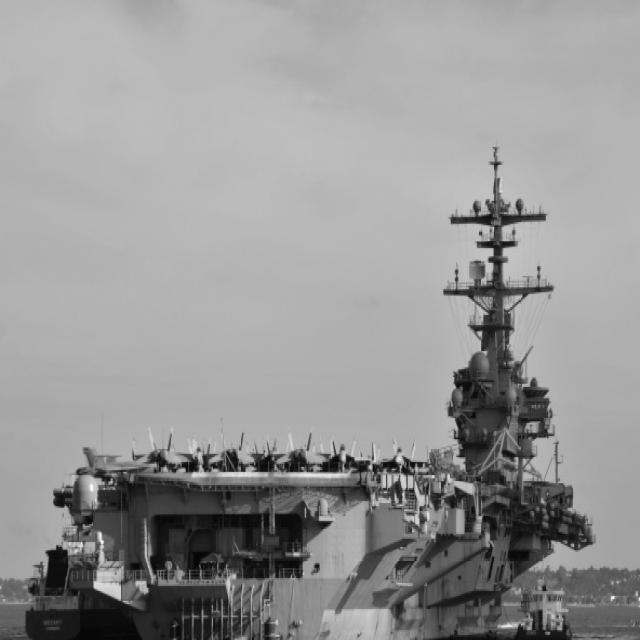Portanaves: (52, 143, 614, 640)
